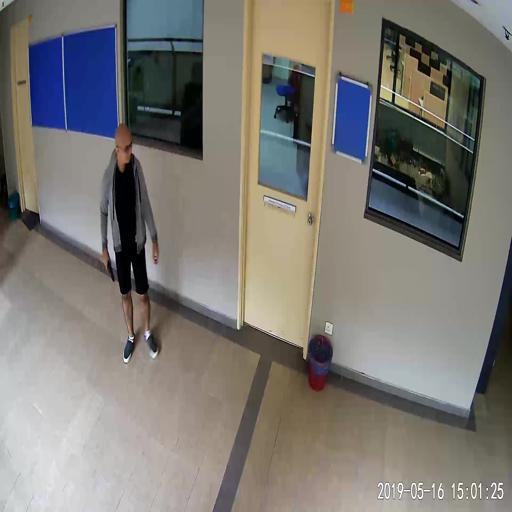pistol: (104, 255, 114, 281)
